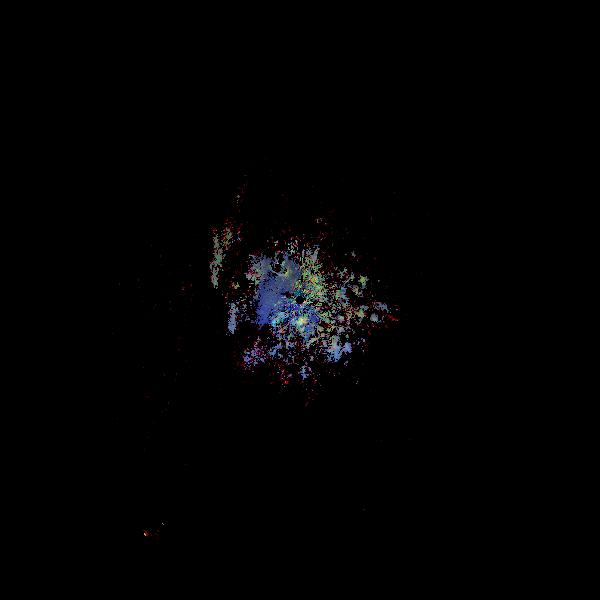roost: (284, 359, 323, 398)
